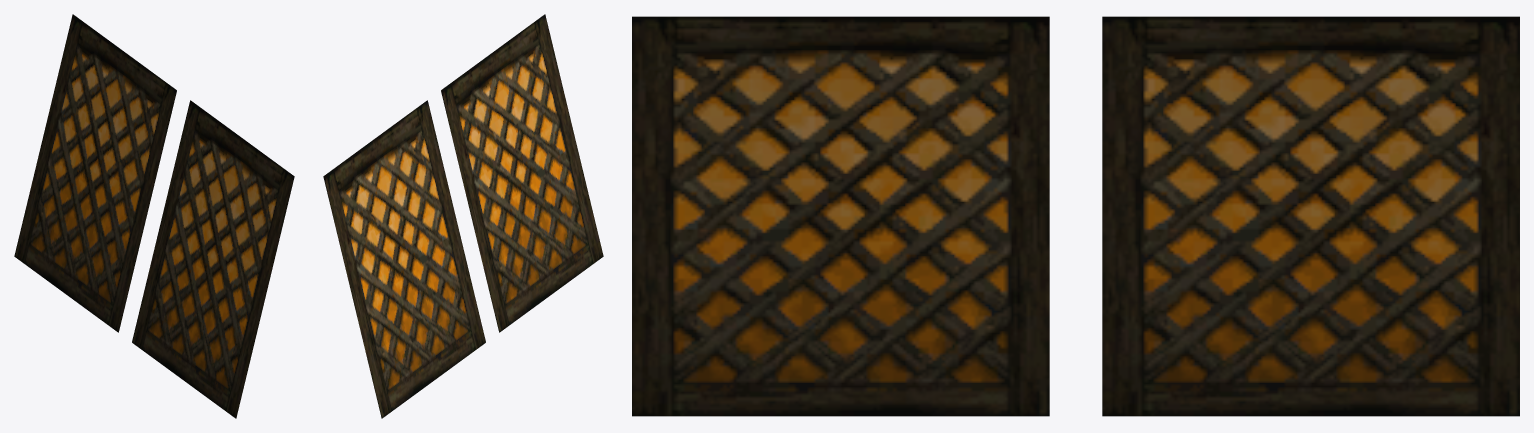
The model's file is LAKETOWN_EXTERIOR_PS_LT_WINDOWS2440.fbx.
The picture shows the model from 3 angles, left to right: view 1: azimuth 30°, elevation 25°; view 2: azimuth 150°, elevation 25°; view 3: azimuth 270°, elevation 25°; orthographic projection. The views are drawn at different scales.
Parts seen in each view (by area): view 1: LAKETOWN_EXTERIOR_PS_LT_WINDOWS2440; view 2: LAKETOWN_EXTERIOR_PS_LT_WINDOWS2440; view 3: LAKETOWN_EXTERIOR_PS_LT_WINDOWS2440.
Boxes of the visible parts, bbox=[...] form: LAKETOWN_EXTERIOR_PS_LT_WINDOWS2440: bbox=[14, 14, 294, 418]; LAKETOWN_EXTERIOR_PS_LT_WINDOWS2440: bbox=[323, 14, 603, 418]; LAKETOWN_EXTERIOR_PS_LT_WINDOWS2440: bbox=[632, 16, 1519, 416].
Size of the model in its own units: 3391 by 12654 by 22299.
1 material, 1 textured.
